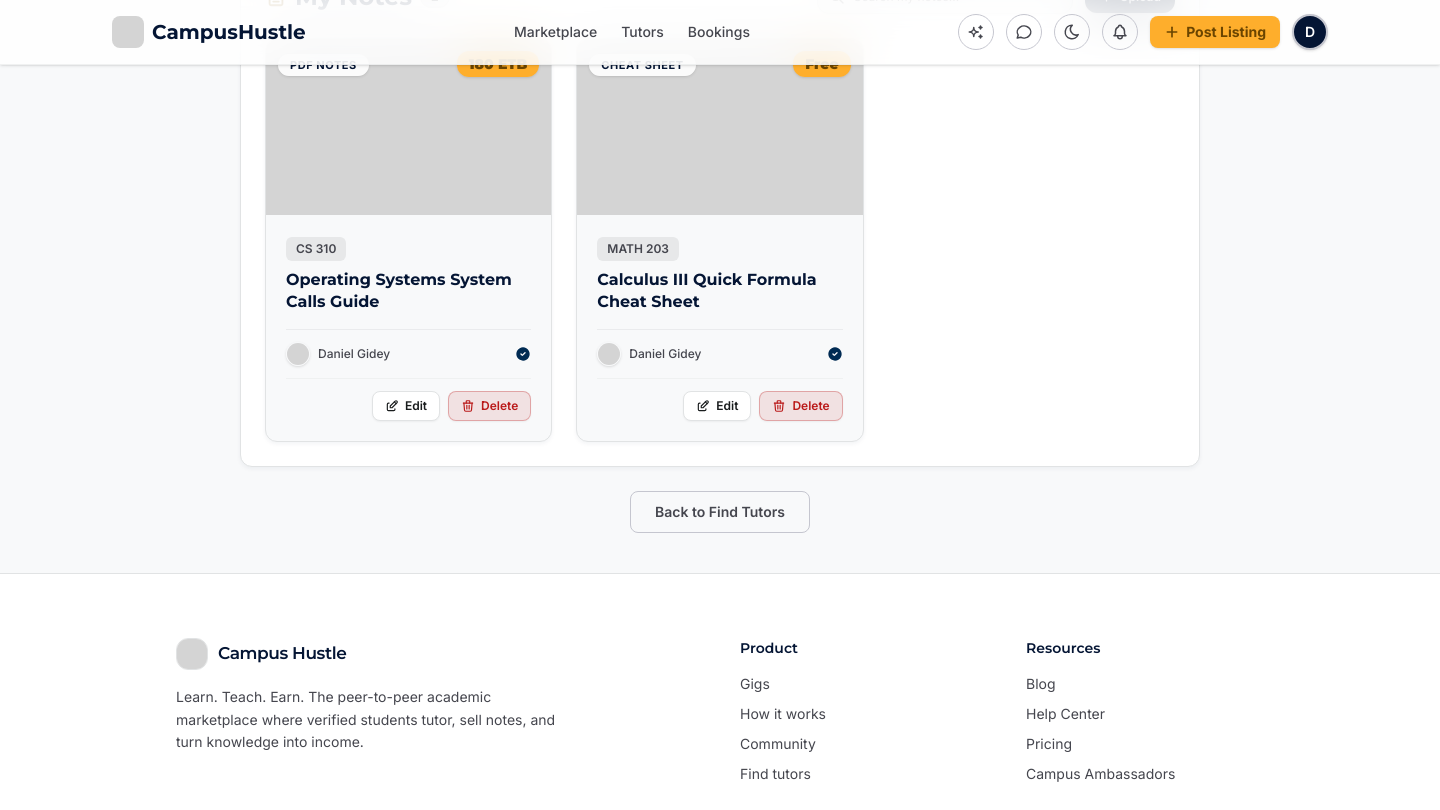
Test: ProfileScreen My Notes Section (View, Edit, Delete) › opens confirmation modal on clicking Delete button and cancels smoothly
(page scrolled)
Expected: the dialog is not shown
# Click delete on first note
What coordinates should you click on to do the following:
click the button named "Delete Operating Systems System Calls Guide"
I would click on:
 (490, 406)
Its box is x1=448 y1=391 x2=531 y2=421.
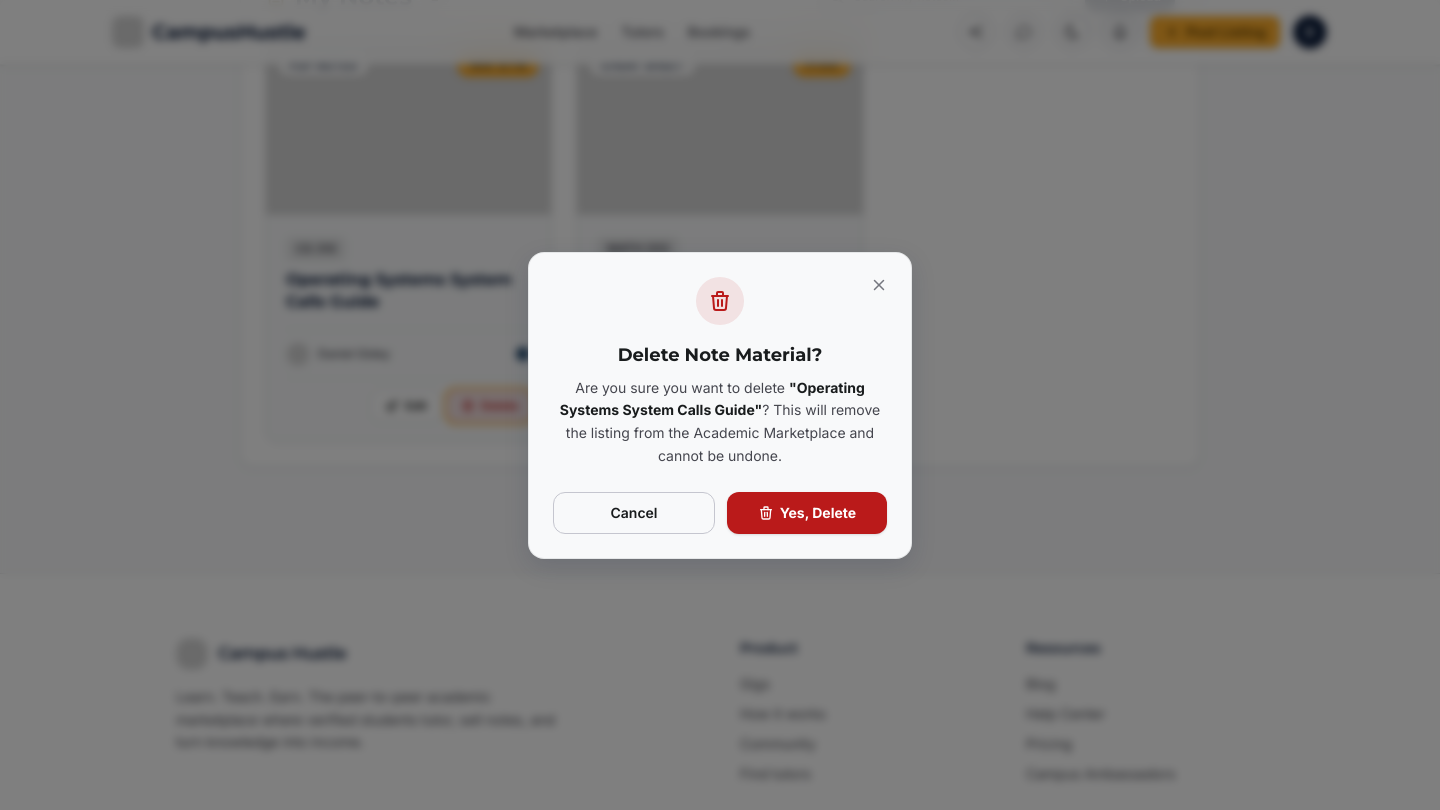
Now the dialog is shown
Now the heading "Delete Note Material?" is shown, box x1=618 y1=344 x2=822 y2=366
Now the text "\"Operating Systems System Calls Guide\"" is shown, box x1=560 y1=378 x2=865 y2=418
# Click Cancel
What coordinates should you click on to do the following:
click the button "Cancel"
I would click on:
 (634, 512)
Its box is x1=553 y1=492 x2=715 y2=534.
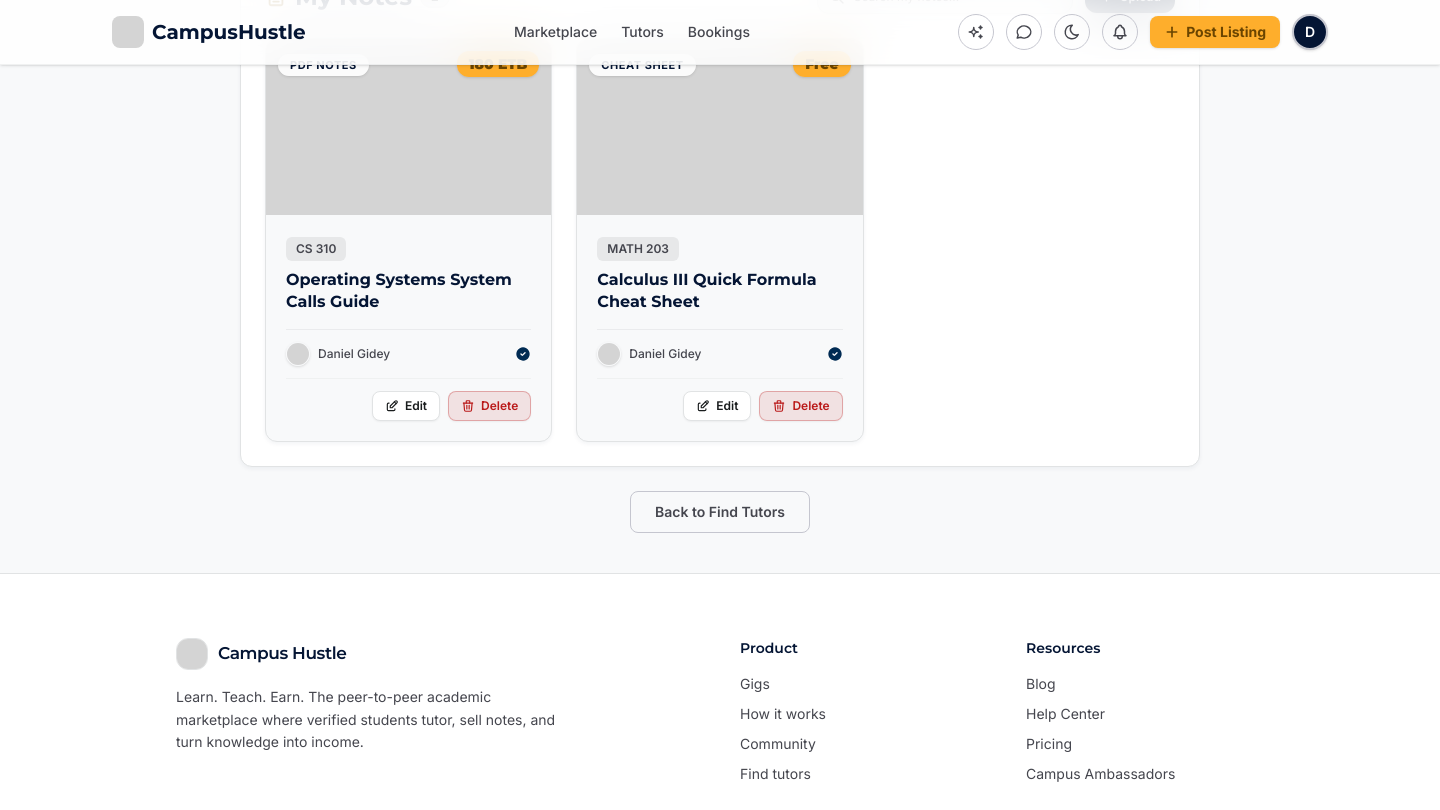
Expected: the heading "Operating Systems System Calls Guide" is shown, x1=286 y1=270 x2=512 y2=311
Now the dialog is gone
